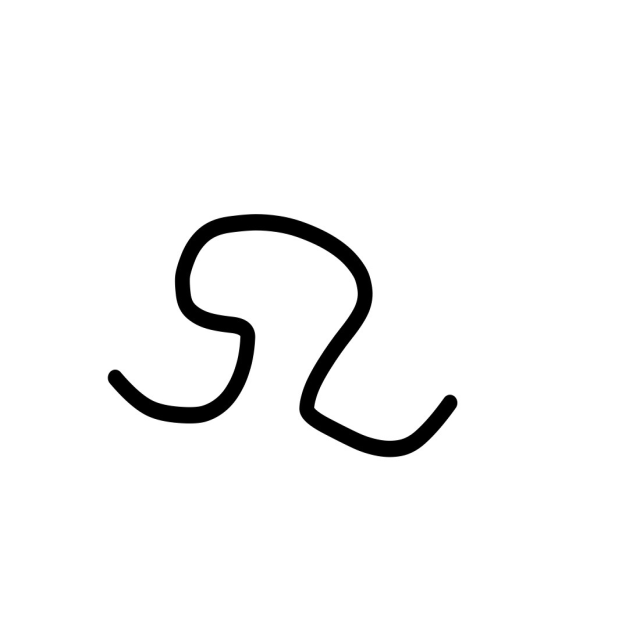ohms: (55, 123, 555, 517)
